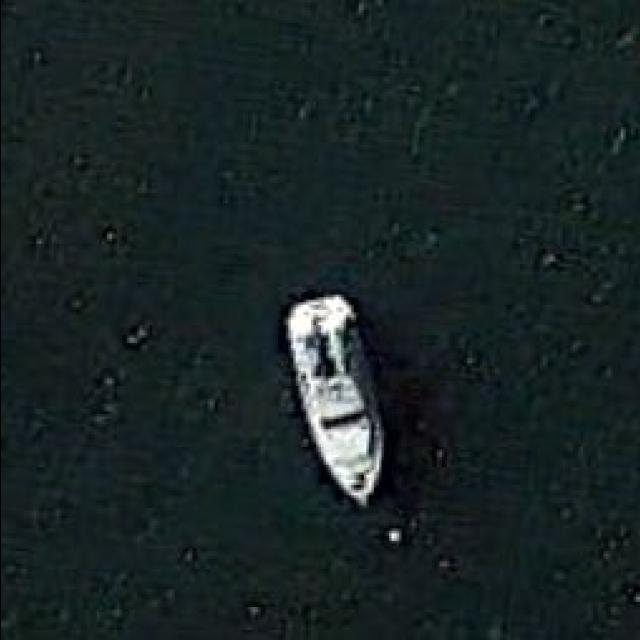ship: (282, 290, 390, 514)
